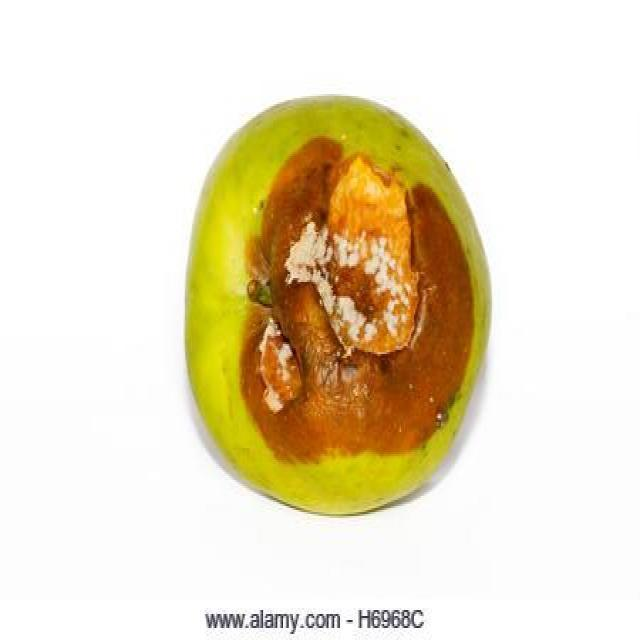Apple: (168, 102, 495, 515)
